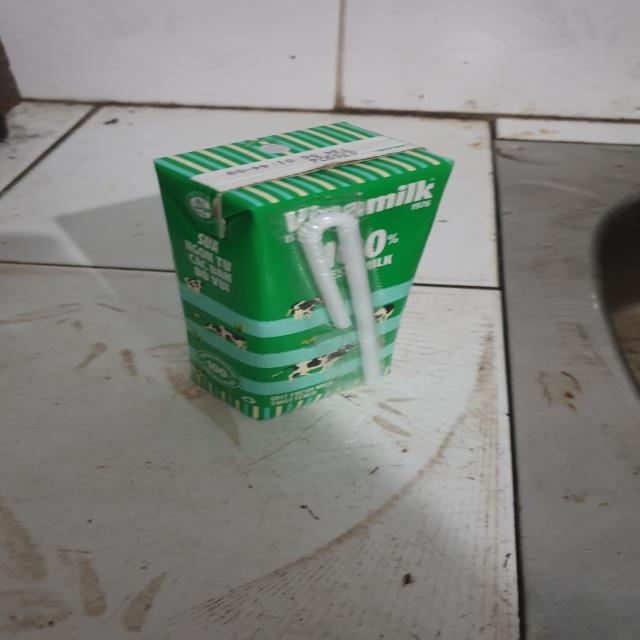Vina: (154, 125, 456, 420)
